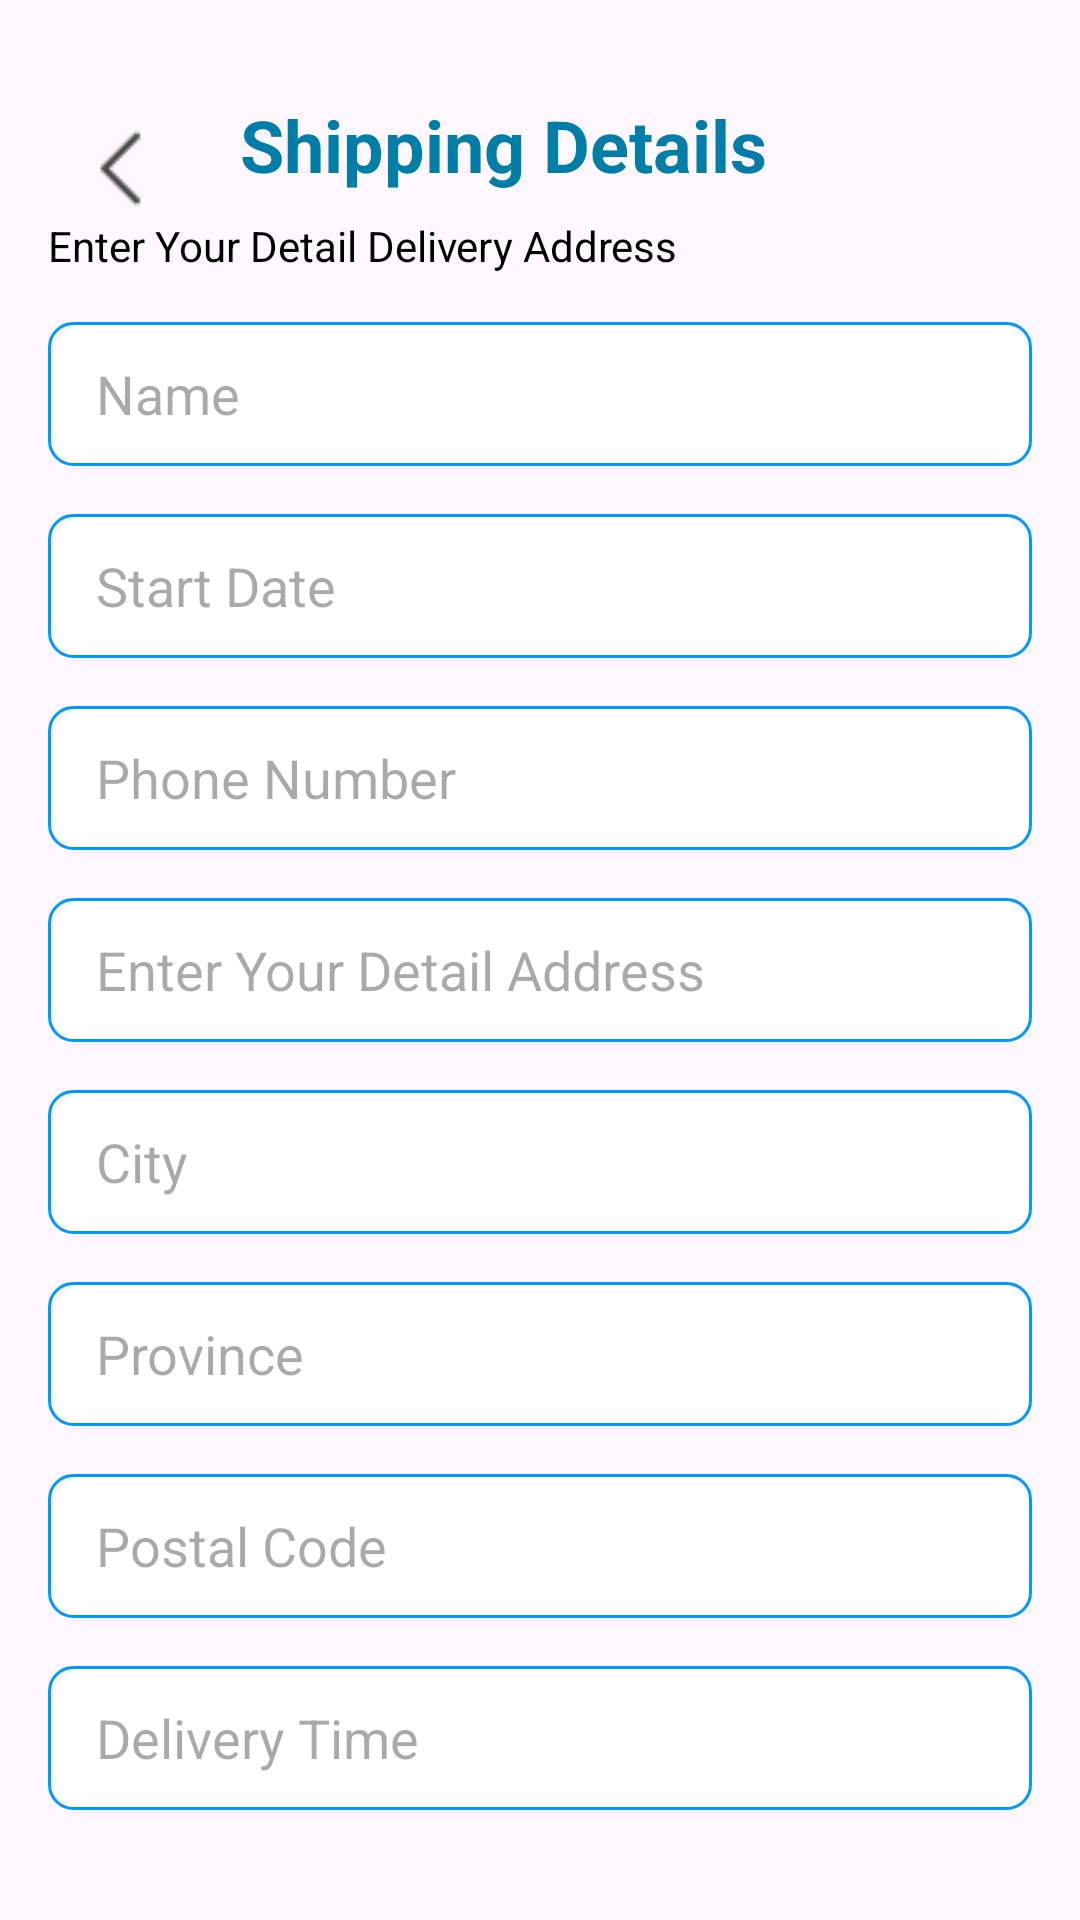

Point at icon controls on the screen. Image size 1080x1920, points as [x,y].
Back: [120,168]
